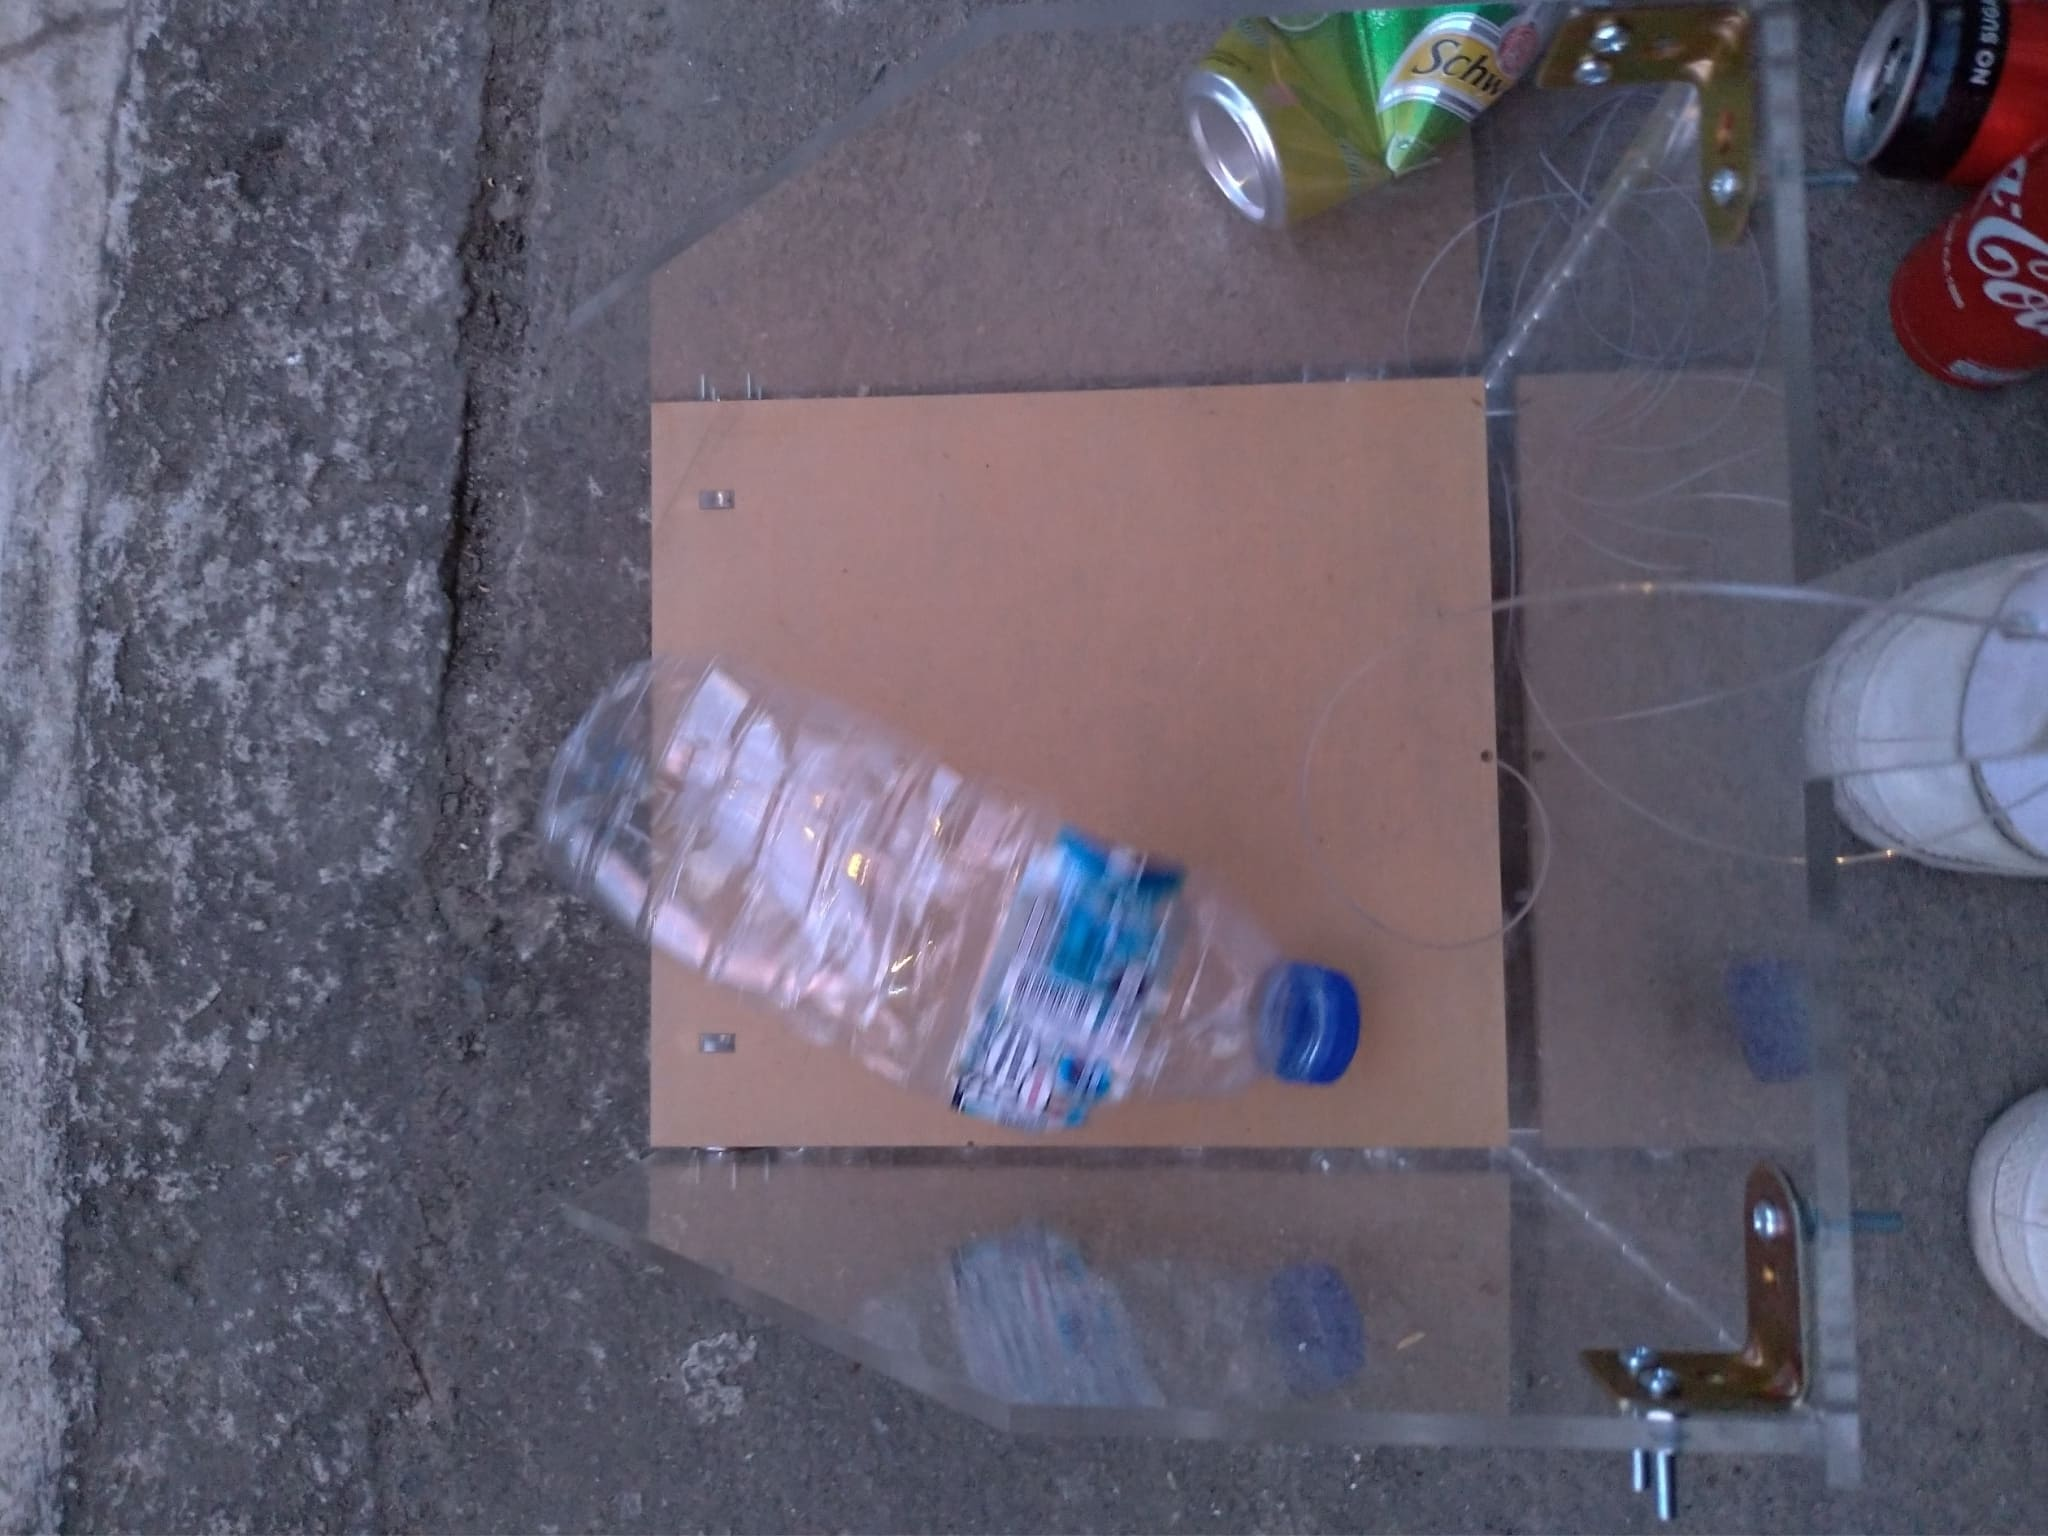AlCan: (1187, 3, 1551, 231), (1892, 115, 2048, 387), (1842, 2, 2046, 189)
PlasticBottle: (537, 650, 1366, 1129)
